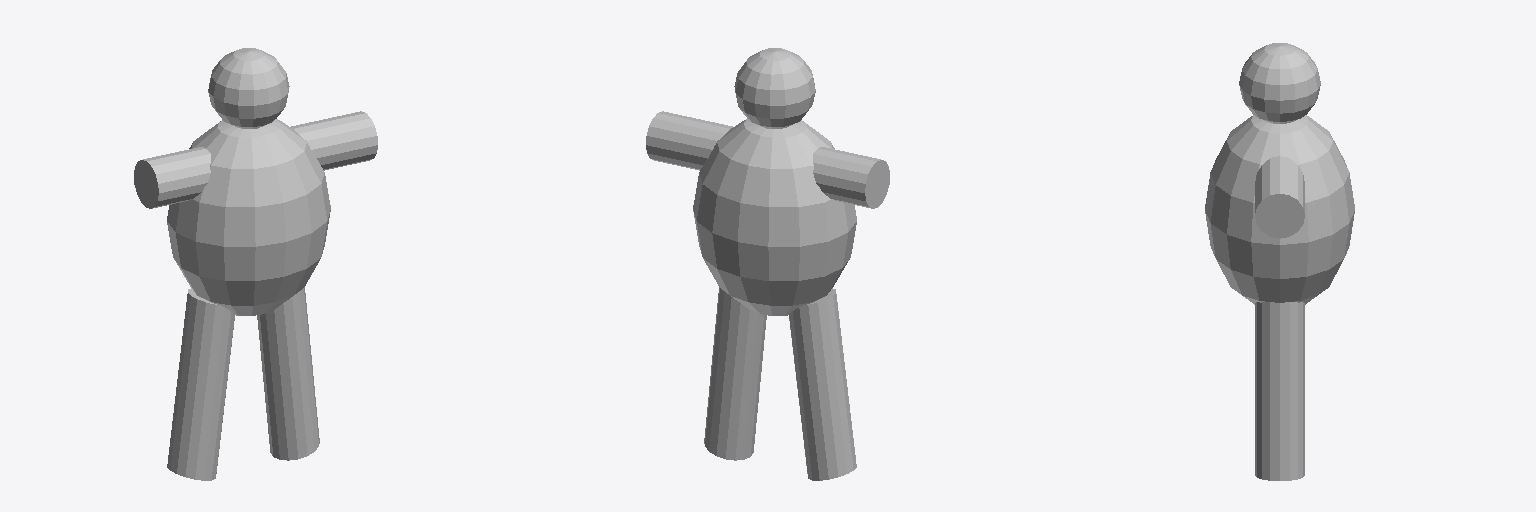
The model's file is man.obj.
3 renders of one model, left to right at view 1: azimuth 30°, elevation 25°; view 2: azimuth 150°, elevation 25°; view 3: azimuth 270°, elevation 25°, orthographic.
Size of the model in its own units: 1.49 by 2.66 by 0.8806.